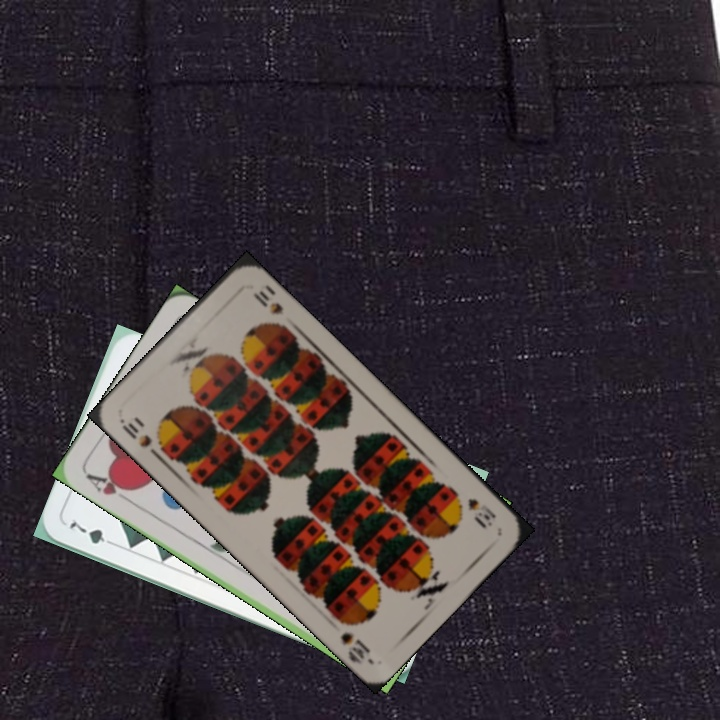G7: (65, 517, 120, 549)
HA: (82, 469, 135, 506)
S10: (117, 415, 164, 462), (463, 494, 498, 529)
